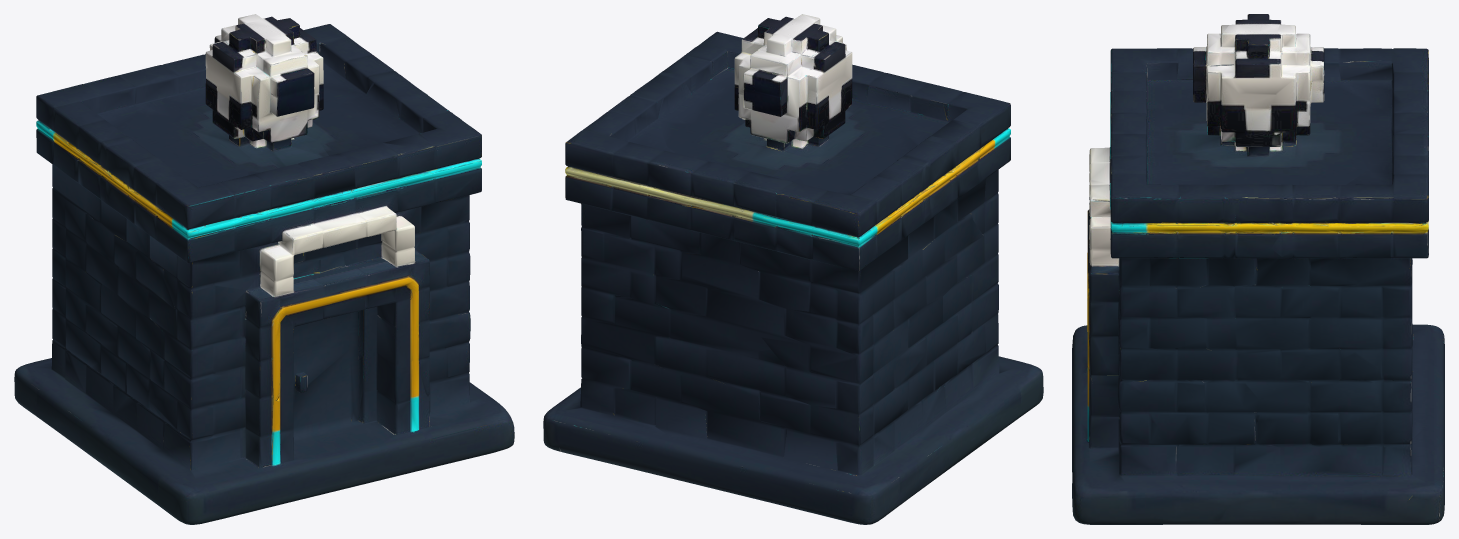
The model's file is bld_gunball.glb.
The picture shows the model from 3 angles, left to right: view 1: azimuth 30°, elevation 25°; view 2: azimuth 150°, elevation 25°; view 3: azimuth 270°, elevation 25°; orthographic projection. The views are drawn at different scales.
Bounding box in the file's own units: 1.67 × 1.9 × 1.54.
Materials: 1 (1 with a texture image).
